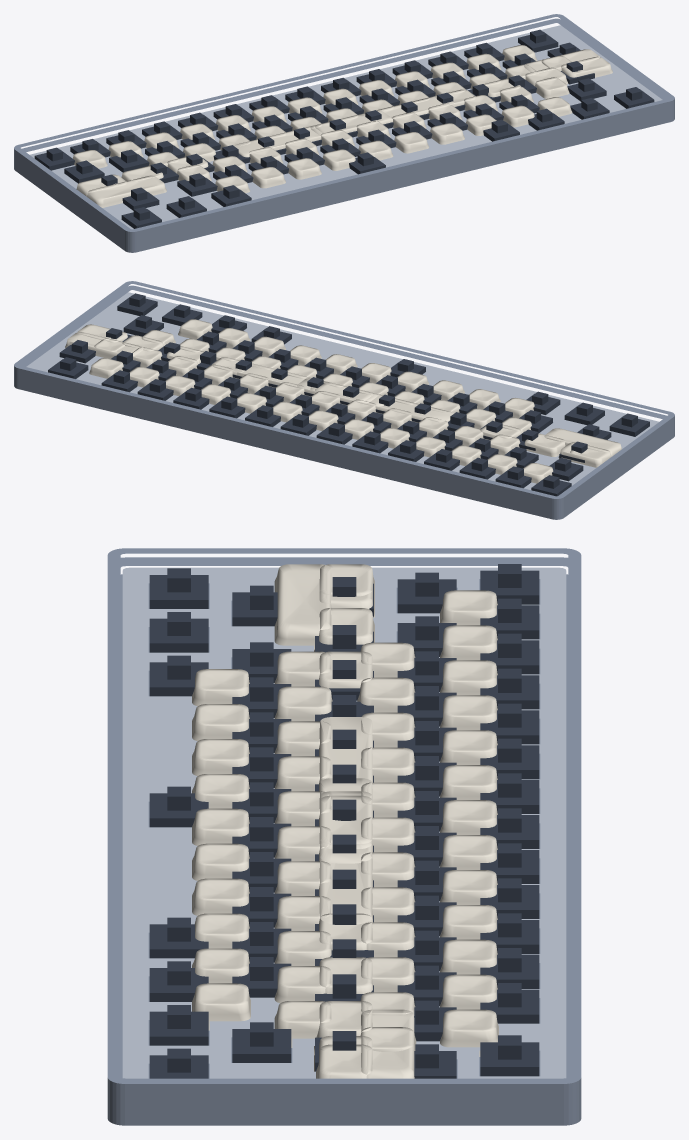
File: madlions-mad60-he-e-sports-magnetic-switch-mechanical-keyboa.glb
3 renders of one model, top to bottom at view 1: azimuth 30°, elevation 25°; view 2: azimuth 150°, elevation 25°; view 3: azimuth 270°, elevation 25°, orthographic. The views are drawn at different scales.
Visible parts, largest first — view 1: switches/switches, bottomCase/case-bottom, keycaps/keycaps-0, plate/plate-placeholder, topCase/case-top, keycaps/keycaps-6, keycaps/keycaps-4, keycaps/keycaps-7, keycaps/keycaps-2; view 2: switches/switches, bottomCase/case-bottom, keycaps/keycaps-0, topCase/case-top, plate/plate-placeholder, keycaps/keycaps-6, keycaps/keycaps-7, keycaps/keycaps-4, keycaps/keycaps-2; view 3: switches/switches, keycaps/keycaps-0, plate/plate-placeholder, bottomCase/case-bottom, keycaps/keycaps-6, keycaps/keycaps-4, keycaps/keycaps-7, topCase/case-top, keycaps/keycaps-2, keycaps/keycaps-5, keycaps/keycaps-3.
Boxes of the visible parts, left/top/right/bottom form: switches/switches: left=34, top=29, right=654, bottom=228; bottomCase/case-bottom: left=14, top=14, right=674, bottom=252; keycaps/keycaps-0: left=73, top=45, right=572, bottom=193; plate/plate-placeholder: left=29, top=25, right=662, bottom=229; topCase/case-top: left=14, top=18, right=674, bottom=248; keycaps/keycaps-6: left=81, top=57, right=612, bottom=196; keycaps/keycaps-4: left=87, top=49, right=599, bottom=207; keycaps/keycaps-7: left=234, top=95, right=453, bottom=157; keycaps/keycaps-2: left=76, top=56, right=610, bottom=195; switches/switches: left=48, top=293, right=649, bottom=496; bottomCase/case-bottom: left=14, top=281, right=674, bottom=519; keycaps/keycaps-0: left=89, top=319, right=553, bottom=483; topCase/case-top: left=14, top=285, right=674, bottom=514; plate/plate-placeholder: left=26, top=292, right=659, bottom=489; keycaps/keycaps-6: left=81, top=332, right=611, bottom=459; keycaps/keycaps-7: left=234, top=363, right=453, bottom=422; keycaps/keycaps-4: left=65, top=332, right=621, bottom=456; keycaps/keycaps-2: left=77, top=324, right=610, bottom=467; switches/switches: left=149, top=564, right=539, bottom=1078; keycaps/keycaps-0: left=192, top=590, right=498, bottom=1056; plate/plate-placeholder: left=122, top=567, right=566, bottom=1078; bottomCase/case-bottom: left=107, top=548, right=581, bottom=1125; keycaps/keycaps-6: left=314, top=569, right=374, bottom=1078; keycaps/keycaps-4: left=274, top=564, right=416, bottom=1078; keycaps/keycaps-7: left=319, top=717, right=372, bottom=924; topCase/case-top: left=108, top=557, right=581, bottom=1117; keycaps/keycaps-2: left=314, top=564, right=374, bottom=1078; keycaps/keycaps-5: left=320, top=778, right=372, bottom=863; keycaps/keycaps-3: left=320, top=795, right=371, bottom=843.
Bounding box in the file's own units: 9571241 × 428835 × 3577933.
